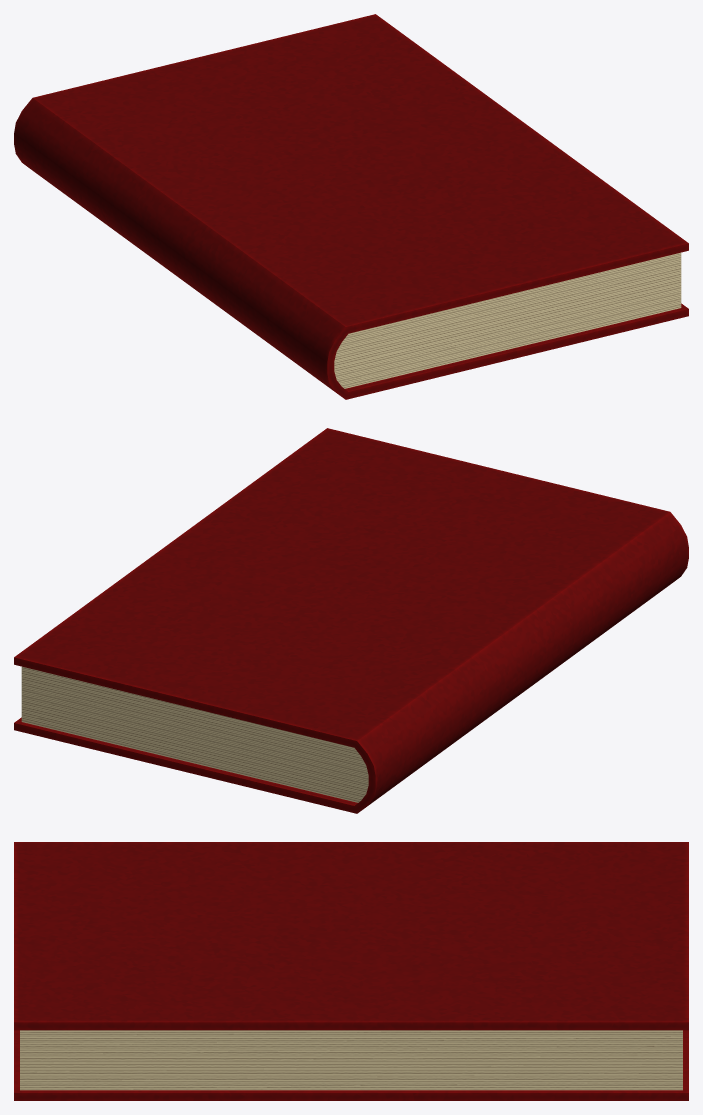
Rendered from Book.fbx.
3 renders of one model, top to bottom at view 1: azimuth 30°, elevation 25°; view 2: azimuth 150°, elevation 25°; view 3: azimuth 270°, elevation 25°, orthographic. The views are drawn at different scales.
Visible parts, largest first — view 1: Book; view 2: Book; view 3: Book.
Boxes of the visible parts, x1,y1,x2,y2 form: Book: (14,14,688,399); Book: (14,428,688,813); Book: (14,842,688,1100).
Size of the model in its own units: 2.6 by 0.5 by 3.9.
Materials: 1 (1 with a texture image).
